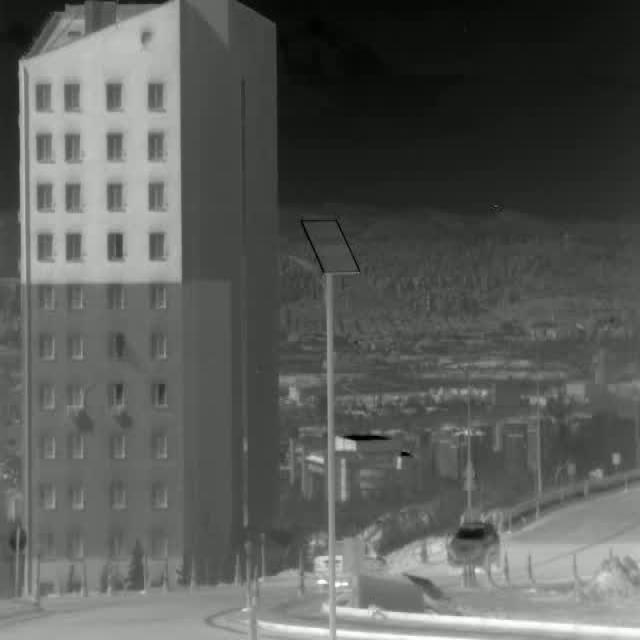Car: (314, 535, 382, 578), (444, 520, 502, 568)
